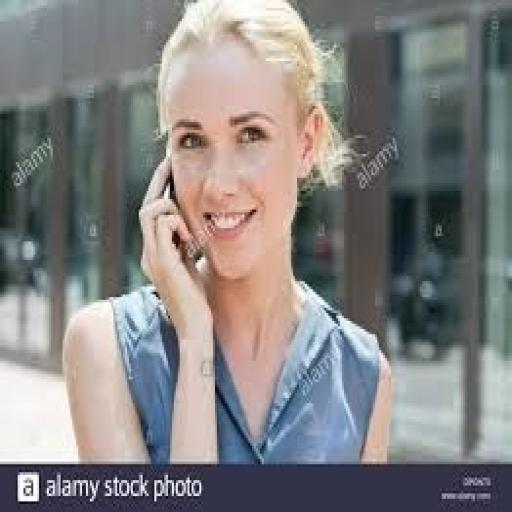calling: (60, 0, 394, 464)
